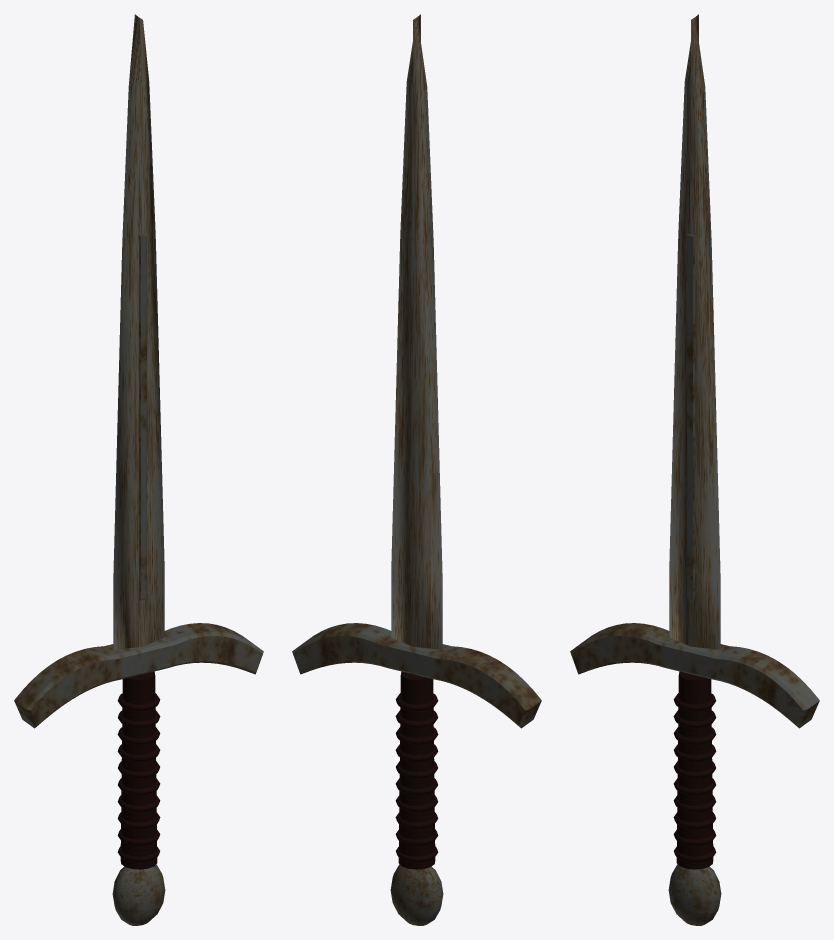
The model's file is weapon-sword.glb.
3 views of the same model, side by side, from view 1: azimuth 30°, elevation 25°; view 2: azimuth 150°, elevation 25°; view 3: azimuth 330°, elevation 25° (orthographic).
Parts seen in each view (by area): view 1: WeaponMesh; view 2: WeaponMesh; view 3: WeaponMesh.
Part boxes in pixels (<box>): WeaponMesh: <box>14,14,263,925</box>; WeaponMesh: <box>292,14,541,925</box>; WeaponMesh: <box>570,14,819,925</box>.
Bounding box in the file's own units: 0.3695 × 1.35 × 0.0562.
Materials: 3 (3 with a texture image).
